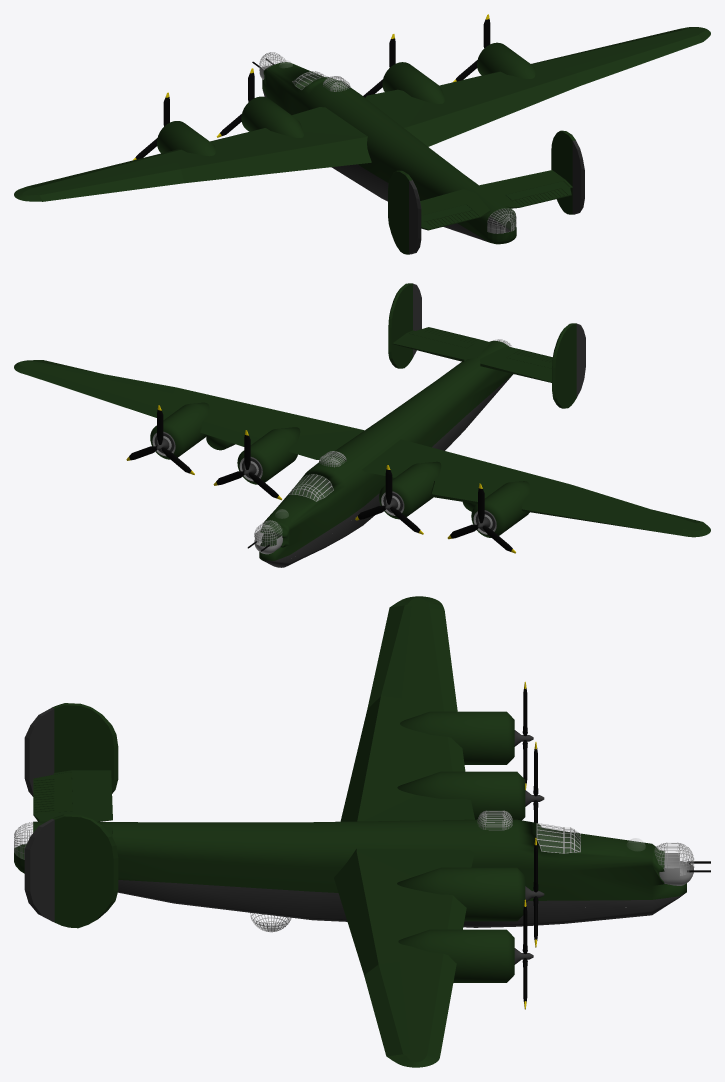
The picture shows the model from 3 angles, top to bottom: view 1: azimuth 30°, elevation 25°; view 2: azimuth 150°, elevation 25°; view 3: azimuth 270°, elevation 25°; orthographic projection. The views are drawn at different scales.
Parts seen in each view (by area): view 1: Object_10, Object_2, Object_5, Object_4, Object_6, Propeller4 blades, Propeller2 blades; view 2: Object_10, Object_2, Object_4, Object_5, Object_8, Propeller2 blades, Propeller1 blades, Propeller3 blades, Propeller4 blades, Object_9; view 3: Object_10, Object_2, Object_4, Object_5, Object_9, Object_6, Object_8.
Boxes of the visible parts, bbox=[...] form: Object_10: bbox=[14, 27, 710, 254]; Object_2: bbox=[262, 62, 516, 244]; Object_5: bbox=[249, 140, 584, 254]; Object_4: bbox=[262, 90, 510, 241]; Object_6: bbox=[292, 71, 516, 233]; Propeller4 blades: bbox=[453, 14, 490, 82]; Propeller2 blades: bbox=[216, 68, 254, 137]; Object_10: bbox=[14, 283, 710, 537]; Object_2: bbox=[259, 340, 512, 560]; Object_4: bbox=[259, 374, 513, 567]; Object_5: bbox=[154, 283, 585, 532]; Object_8: bbox=[152, 431, 496, 534]; Propeller2 blades: bbox=[355, 465, 423, 534]; Propeller1 blades: bbox=[447, 483, 515, 553]; Propeller3 blades: bbox=[213, 430, 281, 500]; Propeller4 blades: bbox=[126, 405, 194, 474]; Object_9: bbox=[254, 520, 282, 554]; Object_10: bbox=[33, 596, 525, 1067]; Object_2: bbox=[14, 819, 686, 900]; Object_4: bbox=[118, 880, 686, 927]; Object_5: bbox=[24, 707, 544, 964]; Object_9: bbox=[655, 842, 694, 885]; Object_6: bbox=[14, 822, 682, 875]; Object_8: bbox=[250, 810, 626, 932].
Size of the model in its own units: 10.22 by 1.72 by 6.39.
